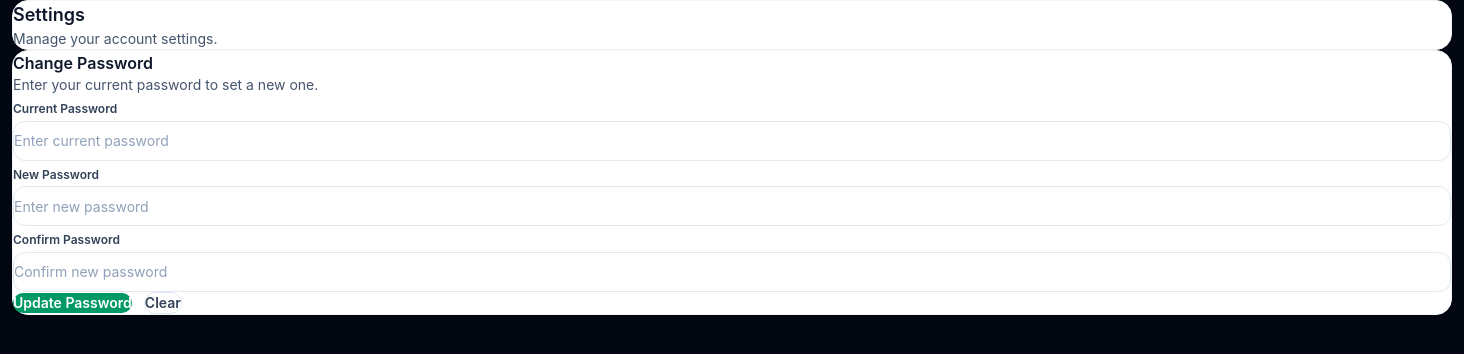
Test: SettingsPage › clear button resets messages
This screenshot has width=1464, height=354.
Type "oldpass" into the password field labelled "Current Password". click: (732, 141)
box: [13,121,1451,161]
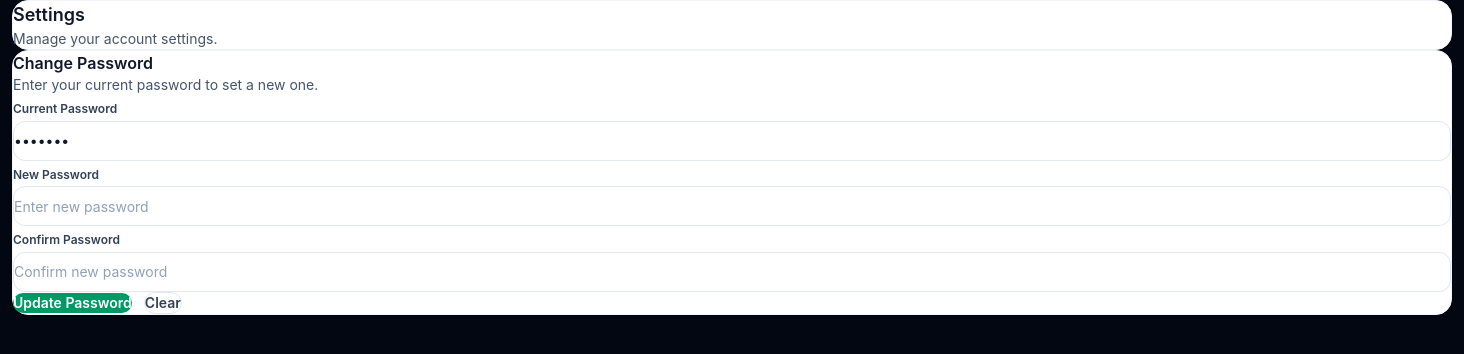
Type "newpass1" into the password field labelled "New Password". click: (732, 206)
box: [13,186,1451,226]
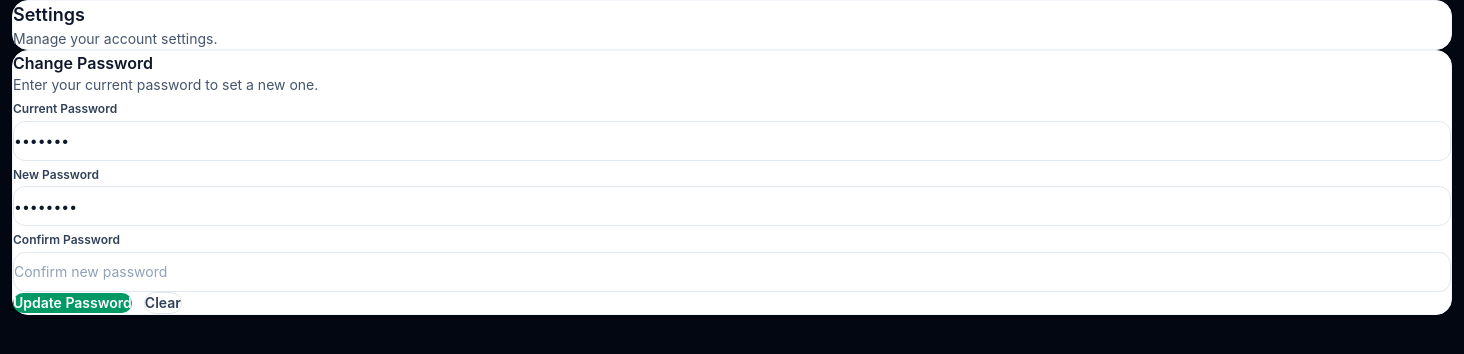
Type "newpass1" into the password field named "Confirm new password". click: (732, 272)
box: [13,252,1451,292]
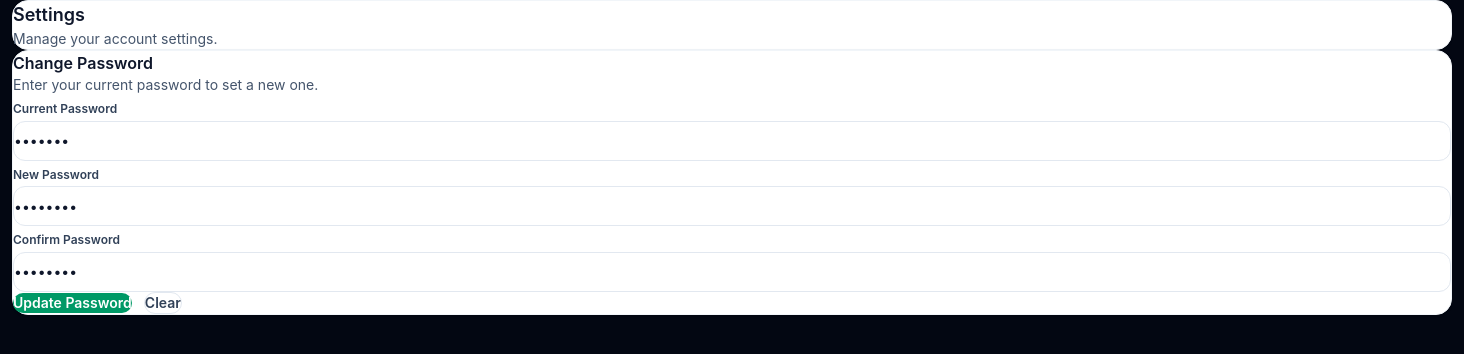
Click the button "Update Password". click: (72, 303)
box: [13,293,132,313]
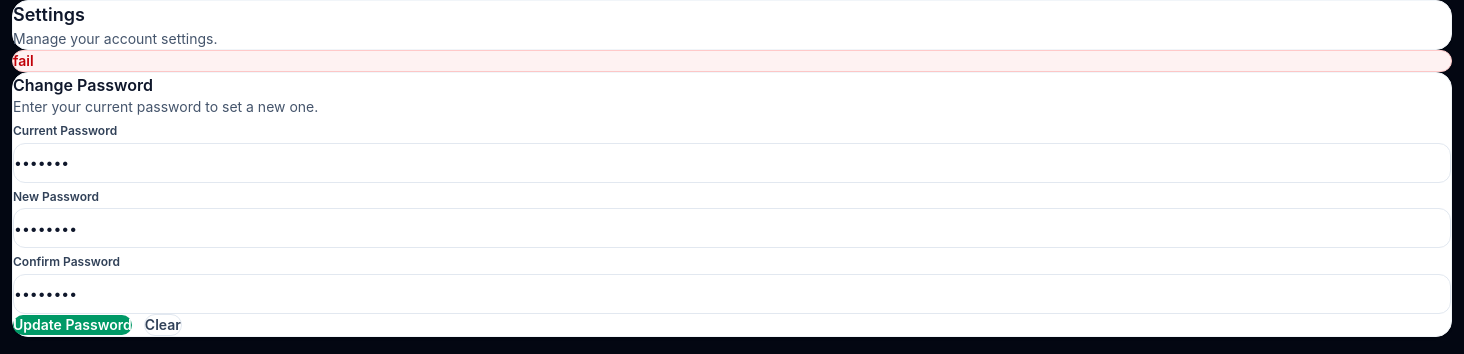
Check: the text "fail" is shown, box [12,50,1452,72]
Click the button "Clear". click: (163, 325)
box: [144,314,182,336]
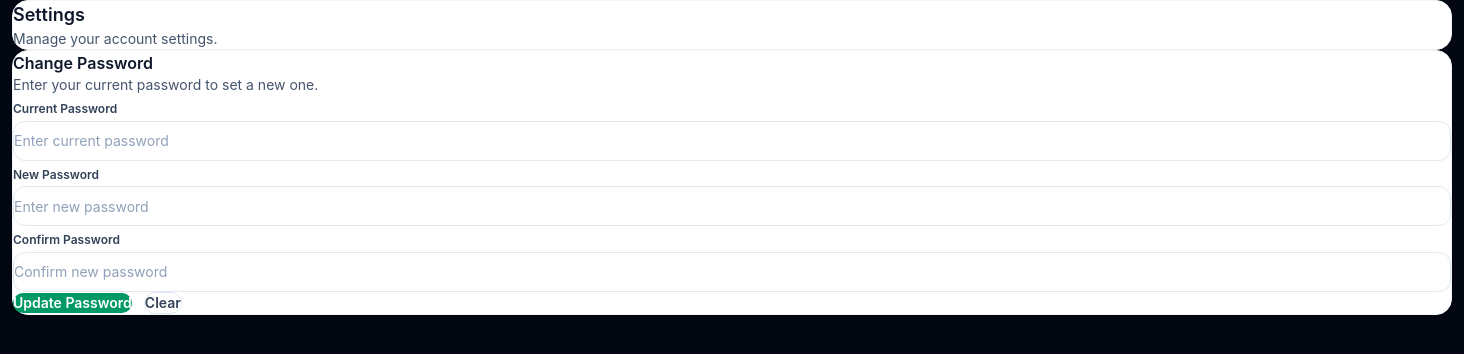
Check: the text "fail" is gone
